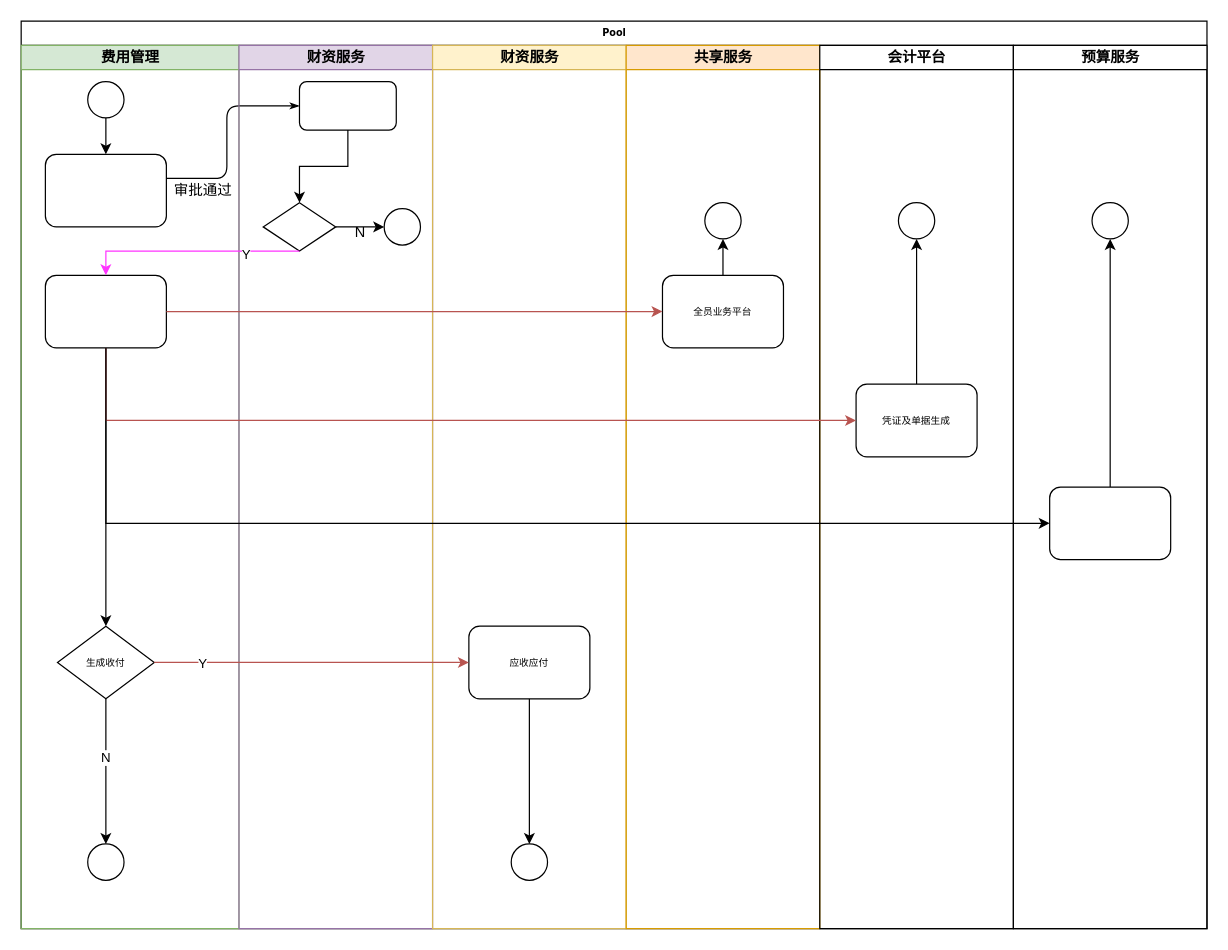
The diagram is 1228 pixels wide and 950 high, and some of its shapes have lost their labels. Each missing label, with the centre of its shape:
"报销单" goes at [105,190].
"报销单(生效）" goes at [105,311].
"结算" goes at [347,105].
"自动签字" goes at [299,226].
"预占数转执行数" goes at [1109,523].
